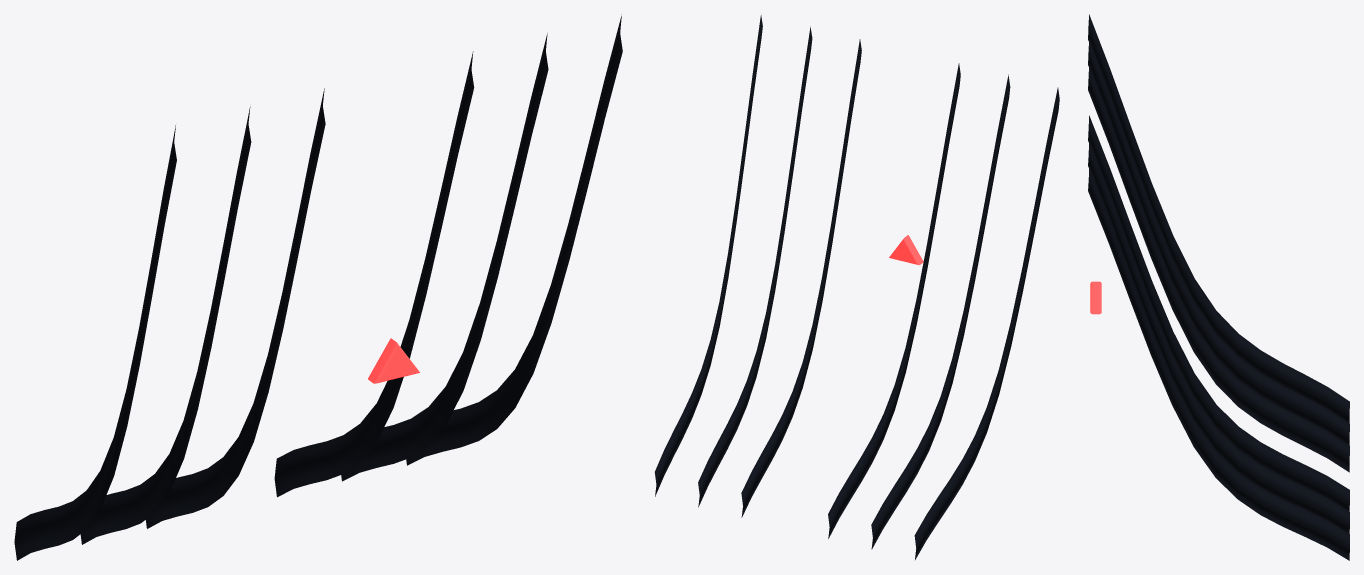
File: diffuser_strakes_light.glb
3 renders of one model, left to right at view 1: azimuth 30°, elevation 25°; view 2: azimuth 150°, elevation 25°; view 3: azimuth 270°, elevation 25°, orthographic. The views are drawn at different scales.
Parts seen in each view (by area): view 1: Diffuser_Strakes_Rain_Light_Assembly; view 2: Diffuser_Strakes_Rain_Light_Assembly; view 3: Diffuser_Strakes_Rain_Light_Assembly.
Part boxes in pixels (<box>): Diffuser_Strakes_Rain_Light_Assembly: <box>14,14,622,560</box>; Diffuser_Strakes_Rain_Light_Assembly: <box>654,15,1059,559</box>; Diffuser_Strakes_Rain_Light_Assembly: <box>1088,14,1349,560</box>.
Size of the model in its own units: 0.97 by 1.2 by 0.7021.
